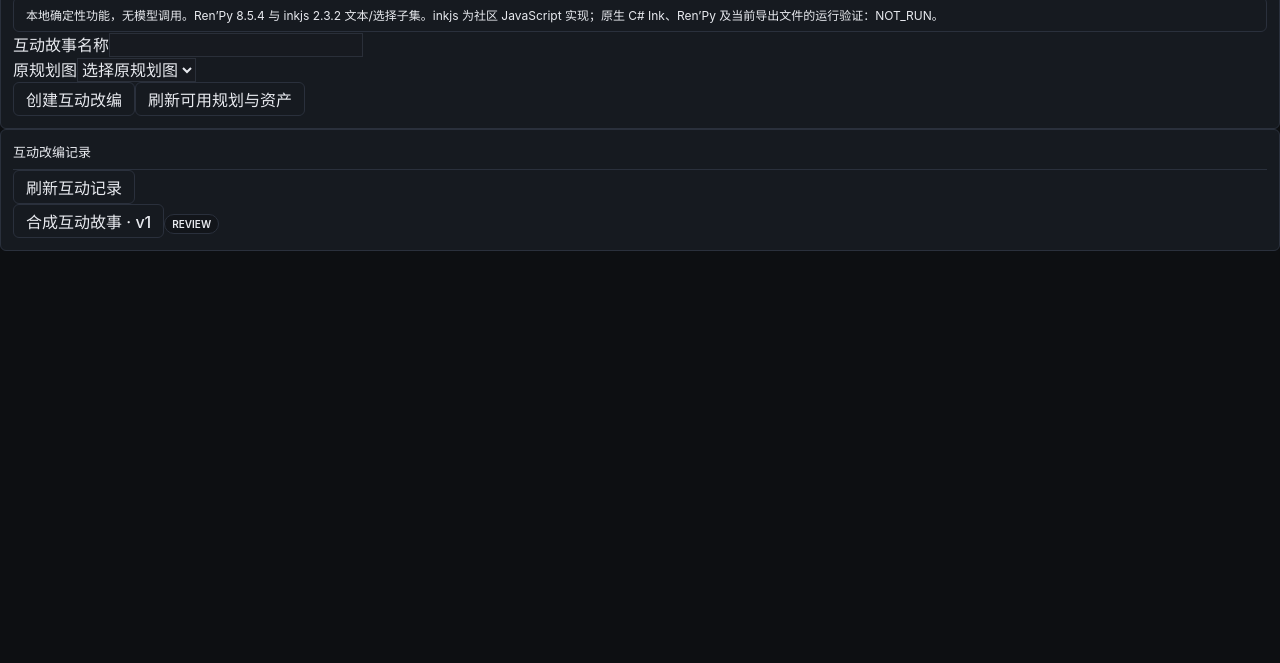
it: requires exact review preview and drops receipt when edited
The width and height of the screenshot is (1280, 663).
Step 1. Click the button "合成互动故事 · v1" → x=89, y=221, box [13,204,164,238]
(page scrolled)
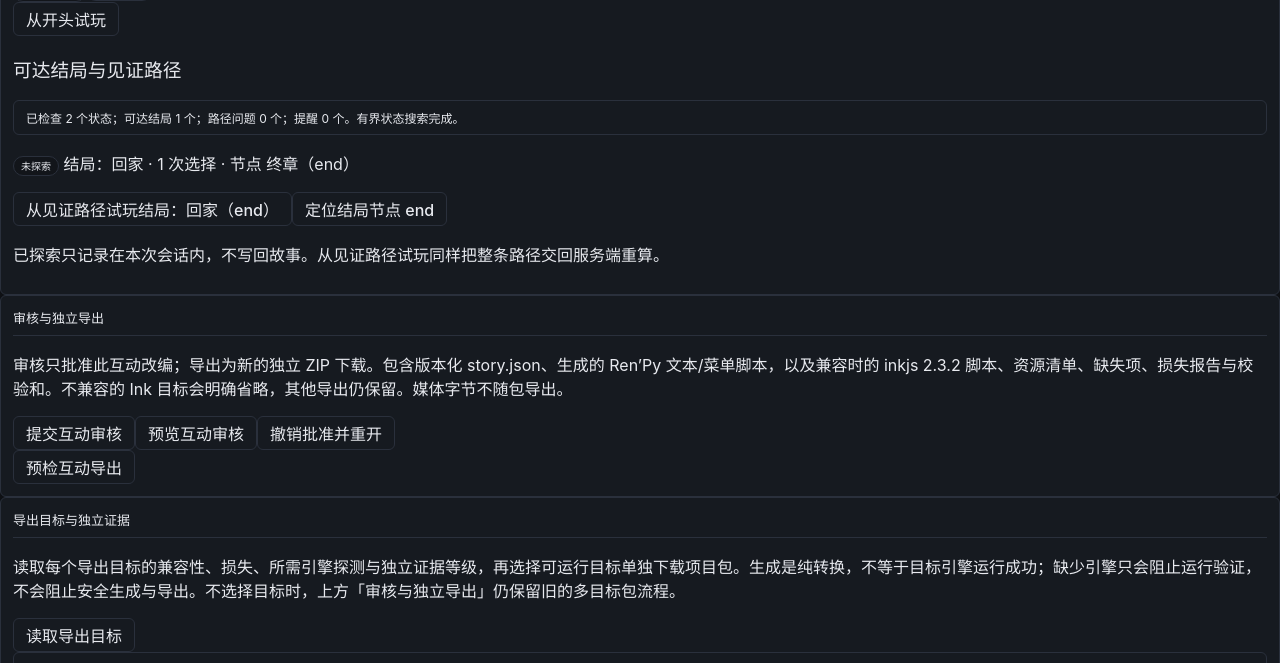
Step 2. Click the button "预览互动审核" → x=196, y=433, box [135,416,257,450]
(page scrolled)
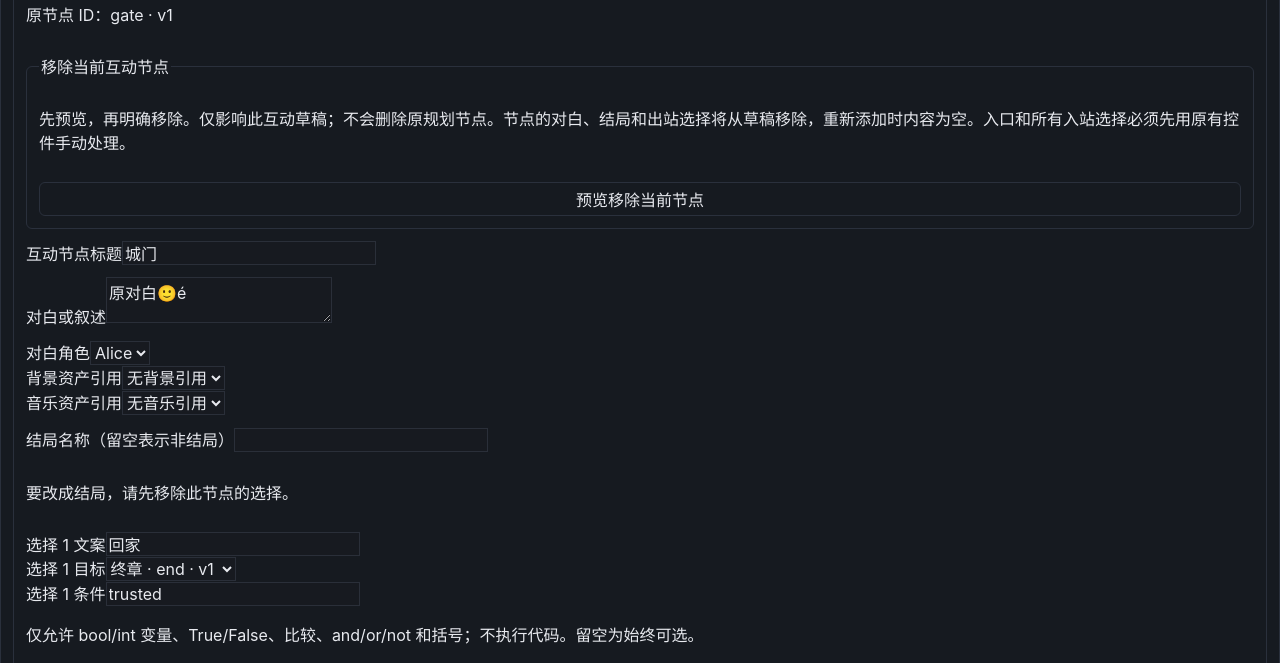
Step 3. Replace the text in the text box labelled "对白或叙述" with "new" → x=219, y=300, box [106,277,332,323]
(page scrolled)
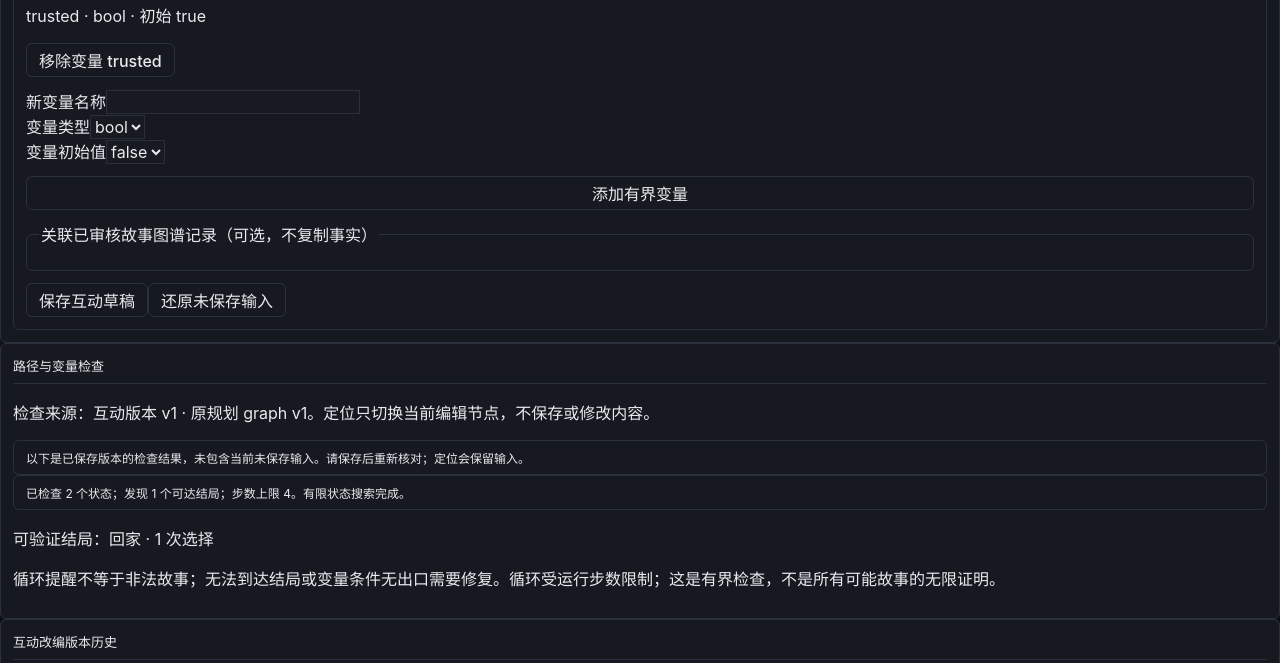
Expected: the button "批准此互动版本" is not shown
Step 4. Click the button "还原未保存输入" → x=217, y=300, box [148,283,286,317]
(page scrolled)
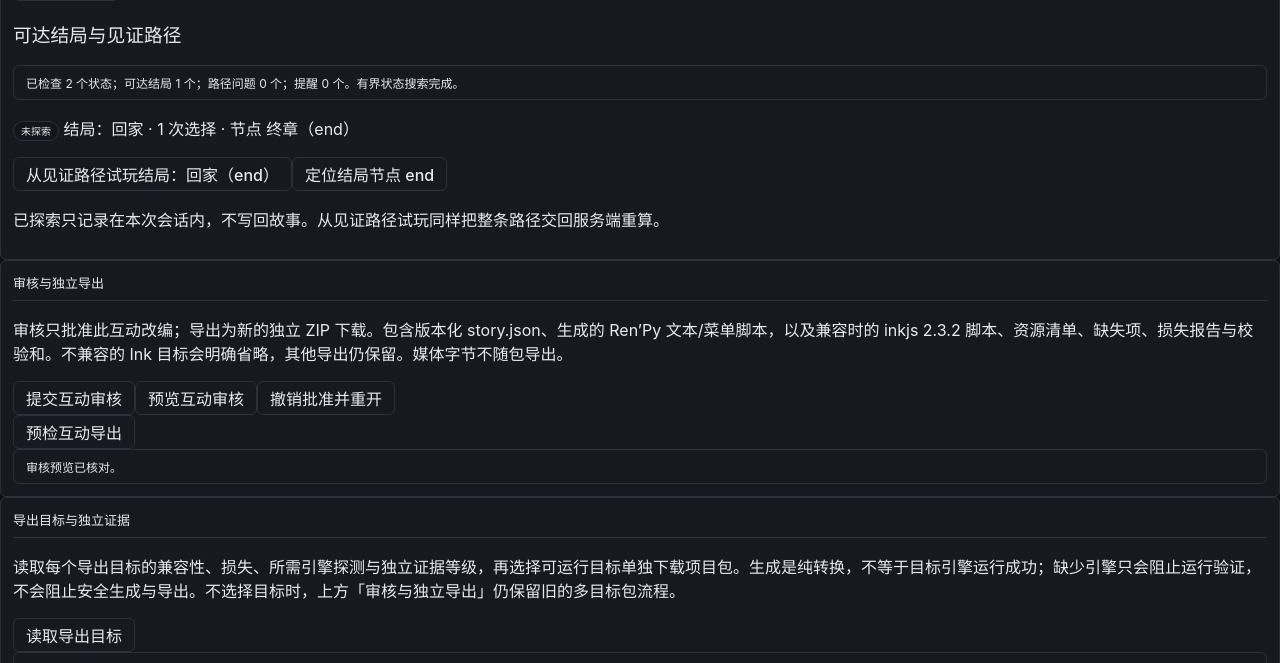
Step 5. Click the button "预览互动审核" → x=196, y=398, box [135,381,257,415]
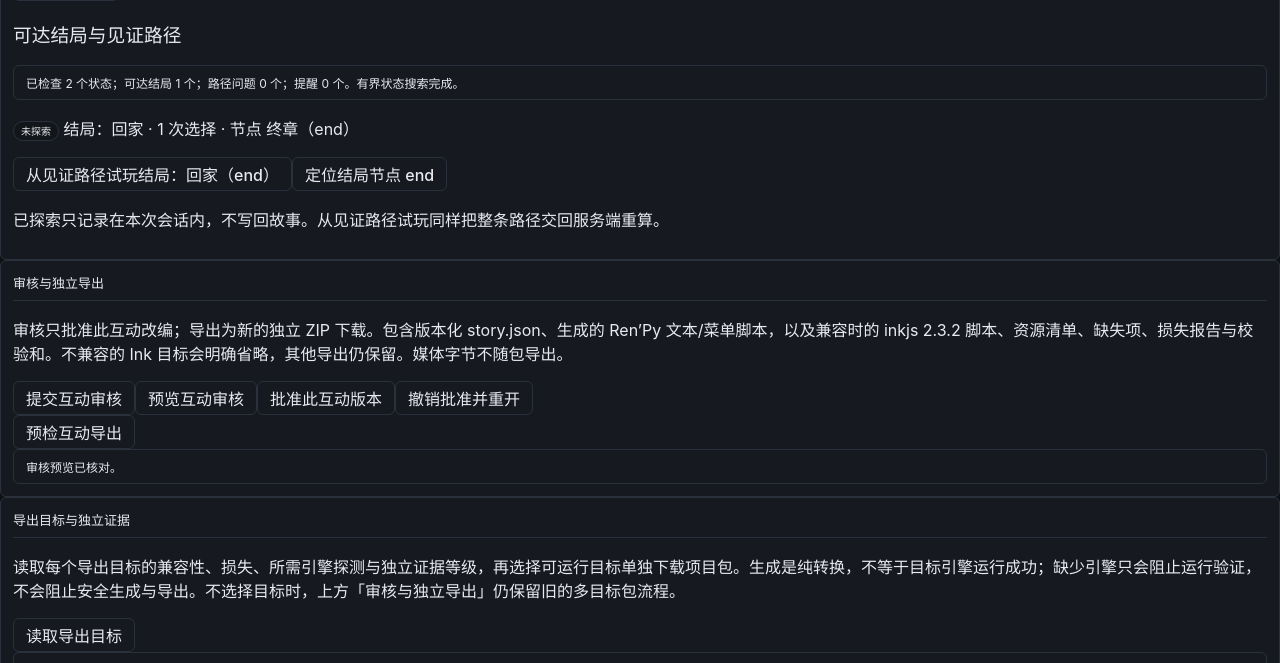
Step 6. Click the button "批准此互动版本" → x=326, y=398, box [257,381,395,415]
(page scrolled)
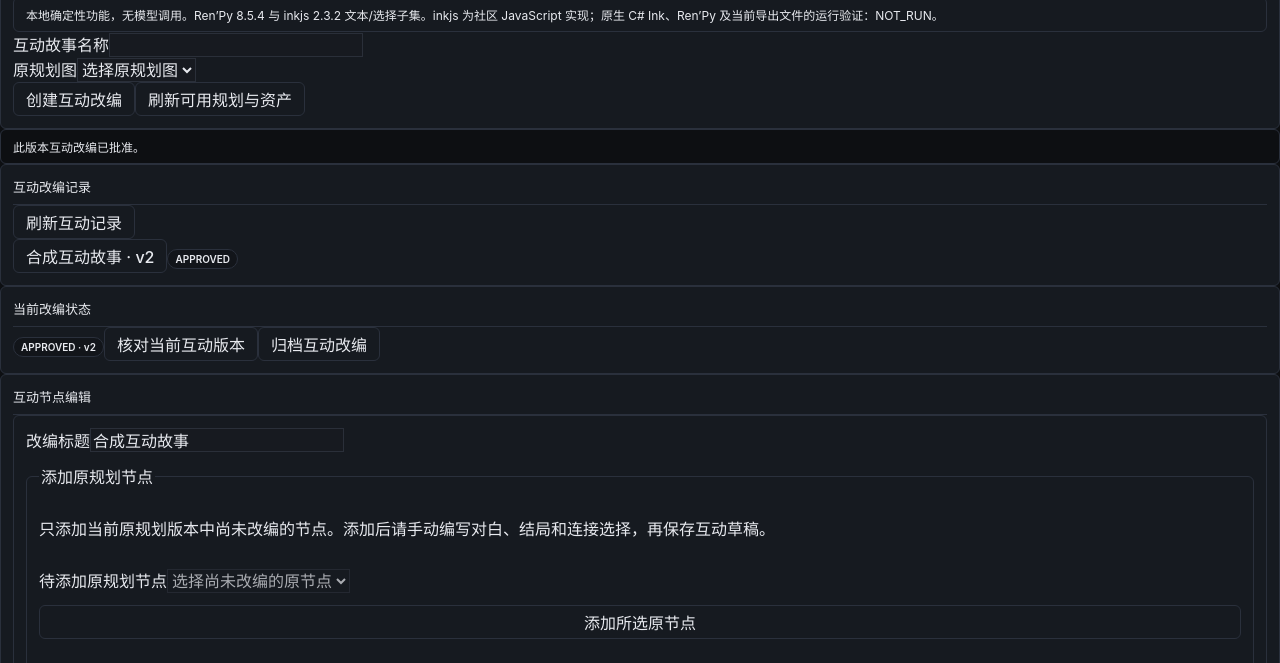
Now the text "此版本互动改编已批准。" is shown, box [0,129,1279,164]
